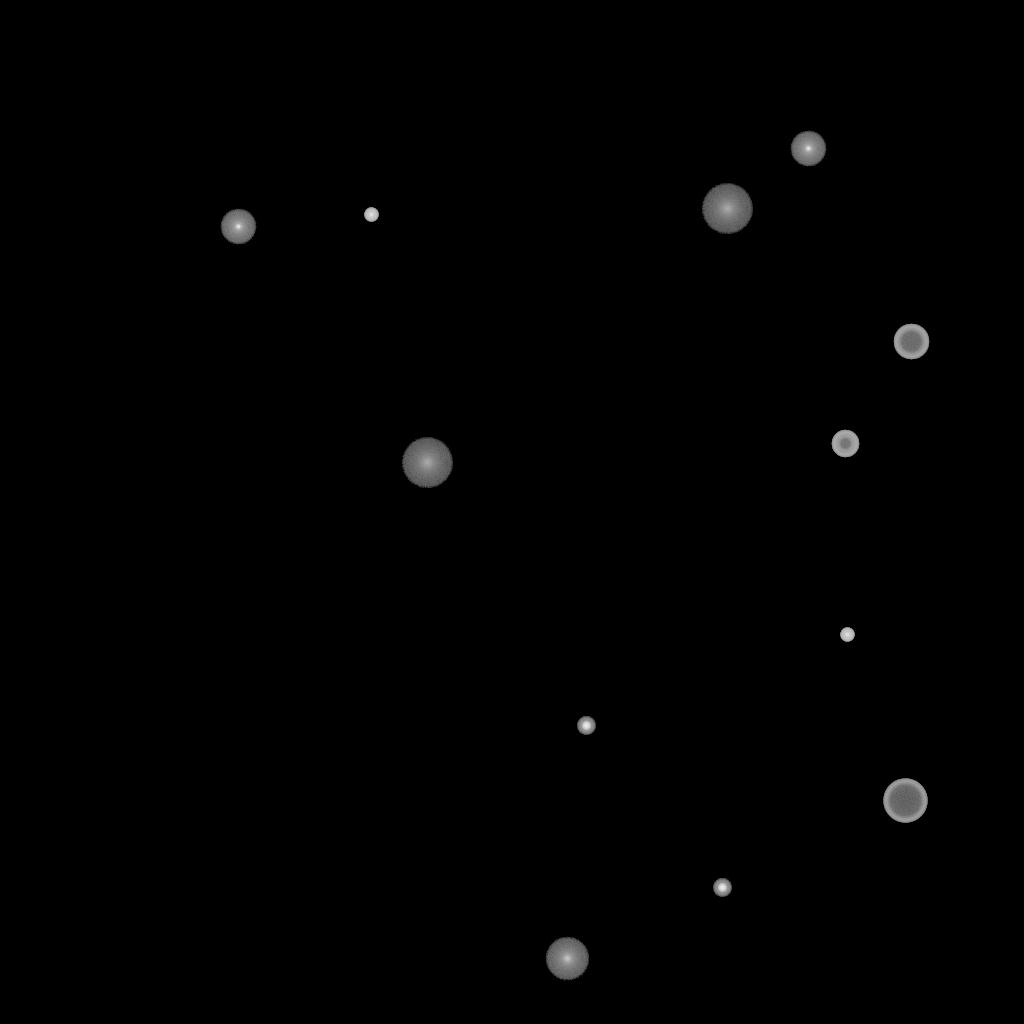depth:-20: (577, 717, 595, 735), (713, 879, 731, 897)
depth:-30: (364, 208, 378, 222), (840, 628, 854, 642)
depth:-50: (831, 430, 859, 458)
depth:-60: (893, 324, 929, 360)
depth:-70: (883, 779, 927, 823)
depth:0: (790, 131, 826, 167), (220, 209, 256, 245)
depth:10: (545, 937, 589, 981)
depth:20: (401, 438, 453, 488), (701, 184, 753, 234)
